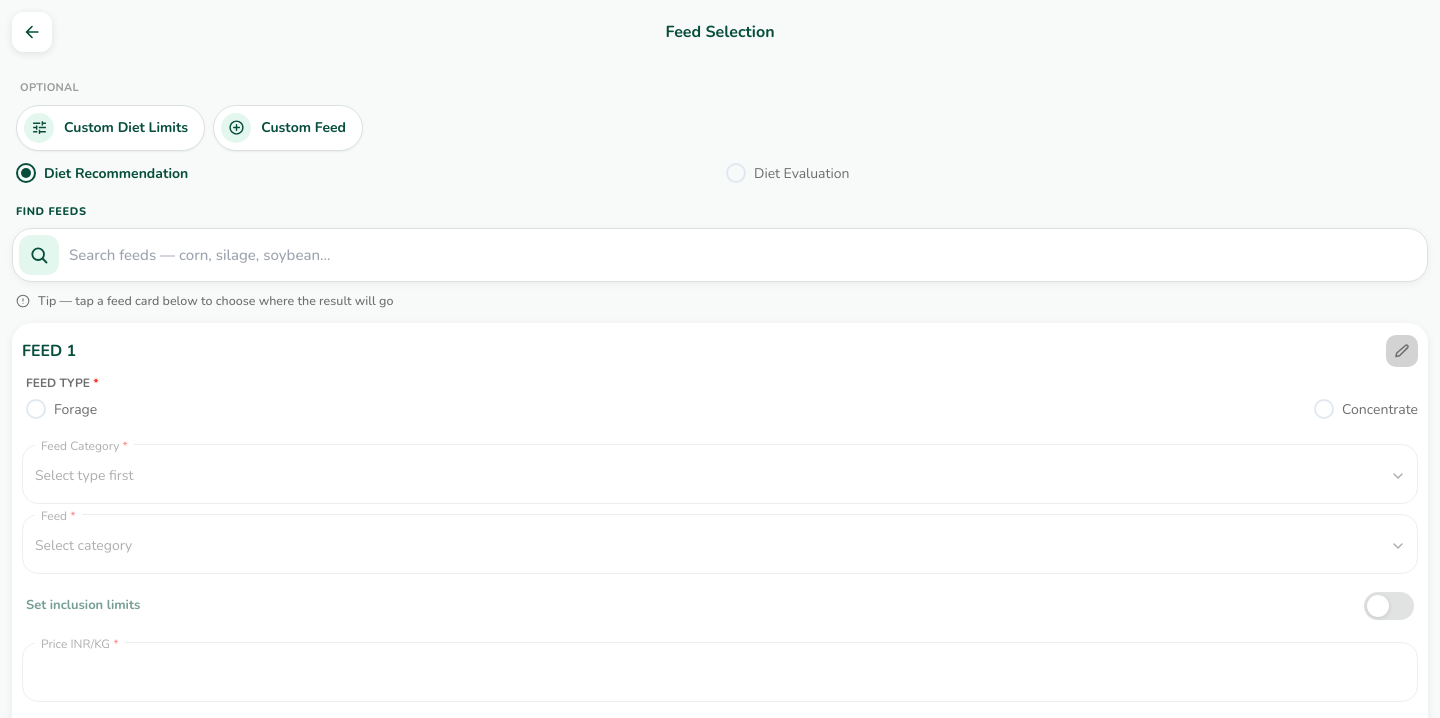
Test: feed-selection — Custom Diet Limits gating › renders every limit the endpoint returns, with its unit and per-state range
Click the button "Custom Diet Limits": [111, 128] box [16,104,205,150]
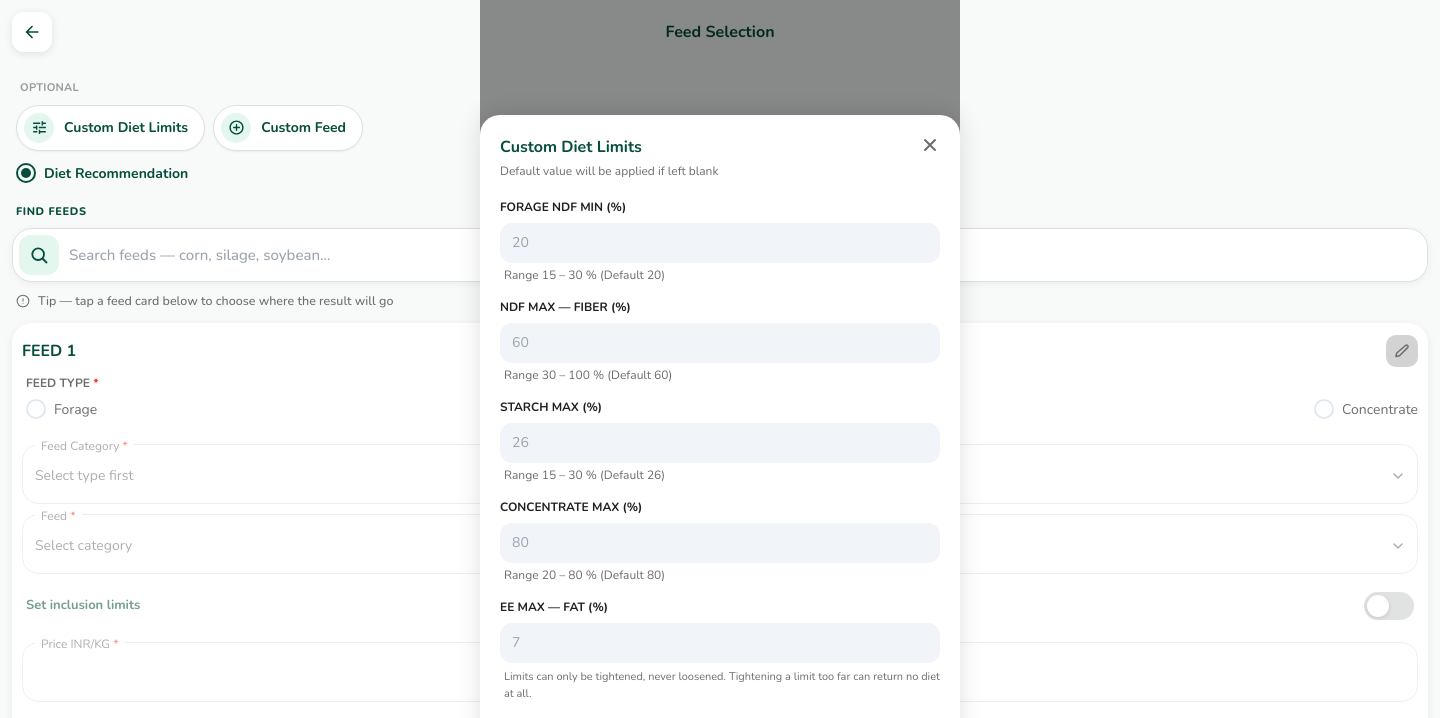
Expected: the text "Range 30 – 100 % (Default 60)" is shown, [504,367,672,383]
Expected: the text "Default value will be applied if left blank" is shown, [500,163,718,179]
